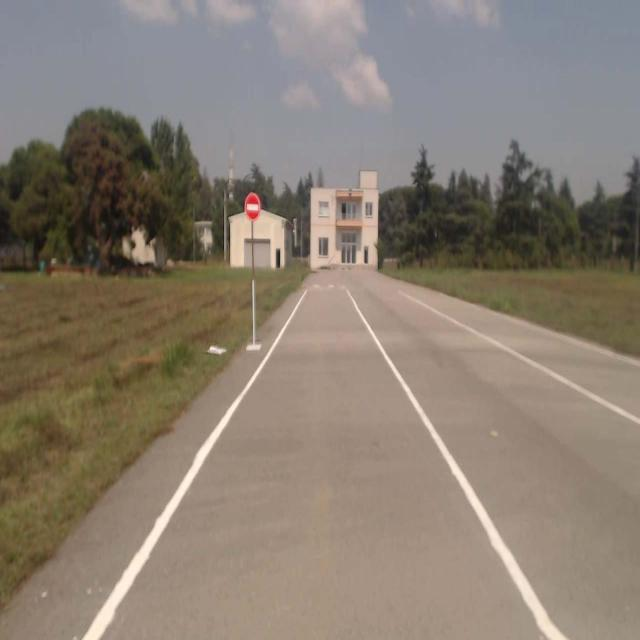girisyok: (244, 192, 260, 220)
